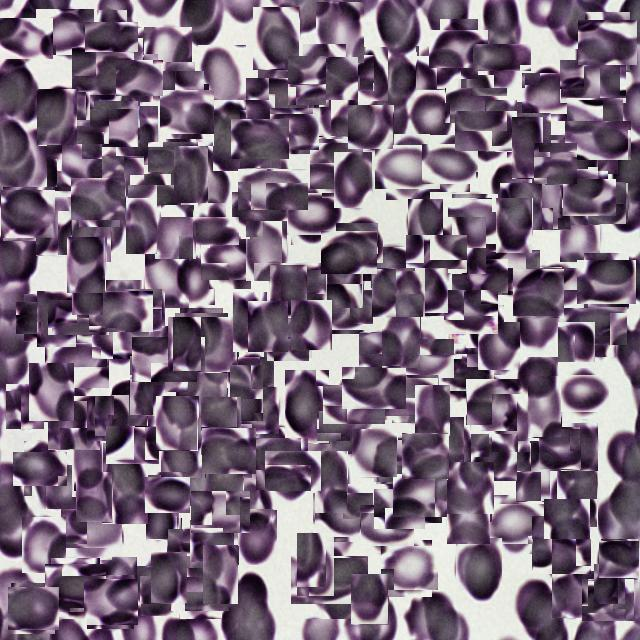red blood cell: (298, 549, 361, 612), (174, 365, 227, 436), (102, 443, 148, 524), (285, 370, 330, 444), (252, 72, 308, 128), (245, 162, 301, 218), (74, 43, 130, 99), (296, 50, 352, 106), (212, 100, 255, 171), (516, 441, 566, 502), (456, 538, 502, 604), (48, 561, 103, 616), (380, 140, 436, 194), (136, 332, 192, 386), (50, 338, 104, 393), (566, 54, 620, 109), (346, 361, 401, 415), (253, 7, 300, 70), (198, 45, 246, 106), (316, 2, 364, 63), (38, 5, 92, 58), (440, 462, 494, 514), (94, 286, 148, 338), (572, 114, 624, 168), (318, 488, 370, 541), (1, 188, 54, 240), (550, 471, 598, 528), (29, 363, 75, 422), (286, 188, 338, 240), (66, 502, 118, 554), (251, 432, 303, 484), (468, 376, 520, 428), (48, 138, 100, 190), (580, 256, 632, 308), (582, 16, 634, 68), (372, 268, 426, 318), (144, 27, 192, 83), (145, 247, 189, 308), (460, 105, 511, 157), (179, 448, 224, 506), (384, 543, 435, 594), (95, 311, 146, 362), (488, 242, 539, 293), (175, 564, 226, 615), (204, 234, 256, 284), (196, 486, 246, 538), (441, 217, 486, 274), (246, 221, 288, 282), (167, 530, 218, 580), (85, 577, 136, 627), (203, 426, 254, 476), (490, 500, 540, 550), (135, 560, 185, 610), (312, 141, 362, 191), (450, 196, 500, 246), (572, 301, 622, 351), (400, 334, 450, 384), (434, 24, 484, 74), (329, 380, 379, 430), (412, 229, 462, 279), (324, 228, 374, 278), (234, 114, 284, 164), (116, 106, 158, 165), (22, 517, 66, 573), (161, 418, 202, 478), (162, 87, 212, 136), (0, 14, 48, 65), (319, 76, 359, 137), (297, 533, 335, 597), (532, 516, 576, 571), (532, 168, 571, 230), (452, 81, 501, 130), (396, 471, 445, 520), (74, 174, 123, 223), (526, 68, 574, 118), (546, 138, 596, 186), (446, 288, 496, 336), (514, 268, 562, 318), (228, 387, 279, 434), (32, 452, 73, 510), (201, 397, 242, 455), (410, 91, 454, 145), (447, 489, 490, 544), (374, 52, 417, 107), (154, 205, 197, 260), (206, 430, 244, 492), (230, 470, 272, 526), (536, 263, 584, 312), (146, 475, 182, 540), (194, 146, 230, 211), (37, 89, 78, 146), (156, 396, 198, 451), (426, 140, 474, 188), (441, 349, 489, 397), (363, 502, 411, 550), (94, 154, 142, 202), (157, 133, 205, 181), (584, 576, 632, 624), (268, 448, 316, 496), (54, 294, 102, 342), (400, 266, 448, 314), (36, 197, 75, 256), (37, 291, 77, 348), (236, 188, 284, 235), (388, 372, 436, 419), (9, 584, 56, 632), (352, 429, 398, 478), (236, 508, 276, 564), (67, 237, 106, 294), (471, 434, 518, 481), (178, 311, 225, 358), (544, 499, 590, 547), (572, 92, 618, 140), (538, 534, 586, 580), (492, 394, 530, 452), (424, 417, 464, 472), (94, 100, 140, 147), (457, 253, 503, 300), (552, 571, 598, 618), (402, 433, 448, 480), (70, 208, 110, 262), (130, 356, 166, 416), (168, 317, 207, 372), (382, 314, 421, 369), (408, 199, 443, 260), (200, 317, 238, 373), (334, 152, 372, 208), (280, 266, 326, 312), (69, 396, 115, 442), (377, 486, 423, 532), (110, 422, 156, 468), (566, 174, 612, 220), (272, 106, 318, 152), (528, 376, 562, 438), (366, 94, 408, 144), (594, 540, 626, 605), (315, 451, 348, 514), (496, 198, 533, 254), (347, 50, 392, 96), (348, 105, 394, 150), (176, 252, 215, 305), (203, 545, 238, 604), (291, 300, 332, 350), (233, 292, 267, 352), (248, 301, 288, 352), (416, 46, 462, 90), (360, 332, 404, 378), (478, 322, 520, 370), (514, 580, 556, 628), (97, 557, 137, 607), (492, 162, 532, 212), (512, 117, 544, 179), (372, 246, 417, 290), (501, 108, 546, 152), (266, 314, 310, 359), (18, 446, 62, 491), (500, 183, 542, 230), (270, 265, 307, 318), (48, 401, 88, 450), (351, 574, 389, 625), (230, 365, 264, 422), (174, 146, 208, 203), (562, 372, 606, 416), (228, 356, 272, 400), (328, 288, 372, 332), (338, 221, 382, 265), (375, 439, 419, 483), (285, 59, 329, 103), (151, 552, 188, 604), (327, 257, 364, 309), (560, 214, 600, 262), (516, 301, 558, 346), (561, 423, 598, 474), (76, 472, 113, 523), (112, 380, 148, 432), (122, 33, 165, 76), (481, 36, 524, 79), (324, 404, 366, 448), (190, 520, 234, 562), (62, 106, 106, 148), (6, 384, 45, 430), (415, 385, 450, 436), (191, 210, 233, 252), (134, 180, 176, 222), (539, 428, 581, 470), (157, 66, 199, 108), (119, 56, 161, 98), (91, 16, 133, 58), (534, 142, 576, 184), (126, 198, 157, 254), (74, 432, 103, 491), (518, 357, 558, 399), (148, 474, 188, 516), (46, 88, 88, 128), (484, 100, 516, 152), (466, 305, 504, 348), (20, 298, 60, 338), (587, 182, 627, 222), (124, 290, 164, 330), (72, 266, 104, 316), (558, 322, 596, 363), (600, 540, 639, 579)
